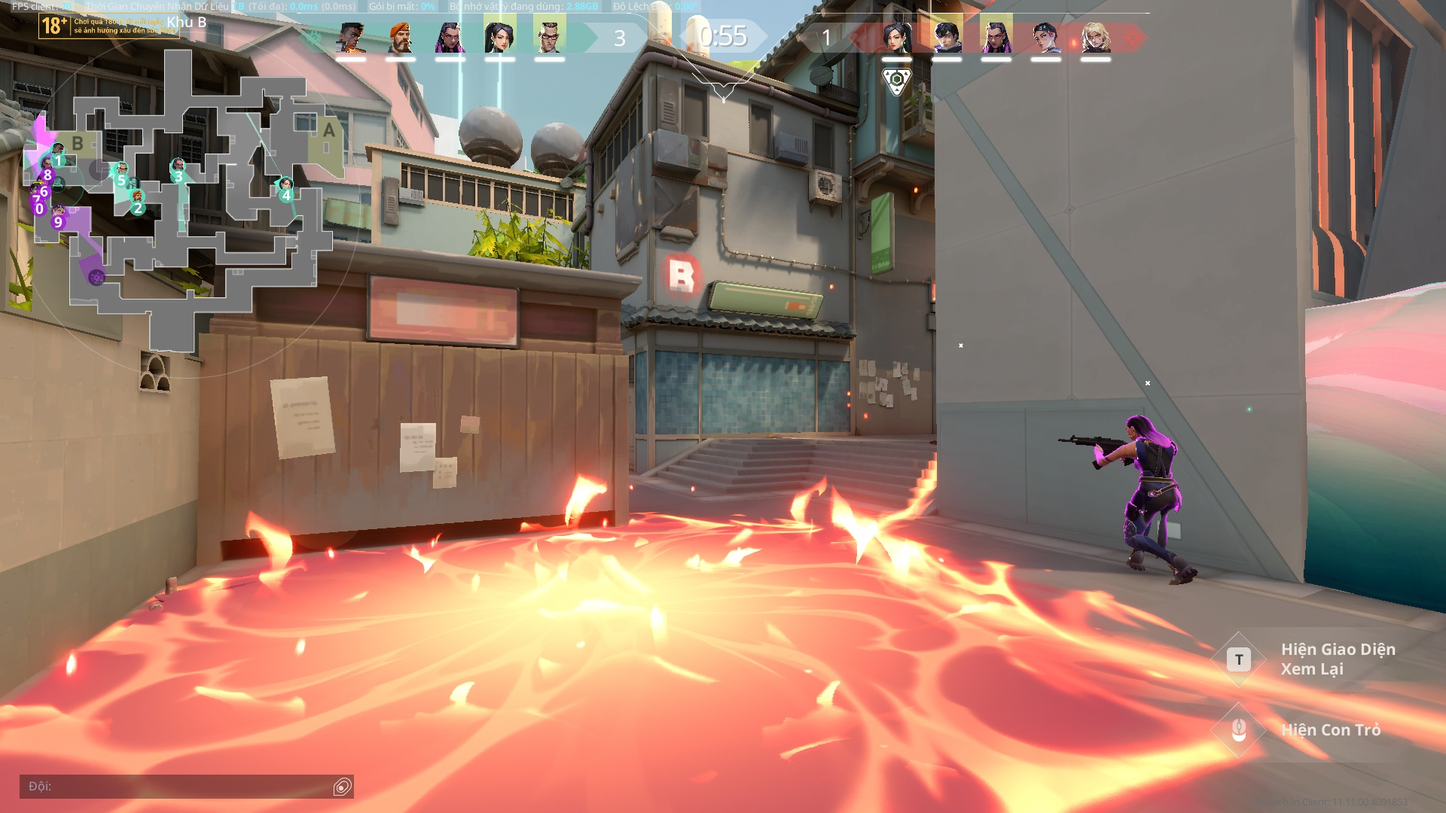body: (1124, 431, 1181, 504)
head: (1126, 412, 1153, 439)
